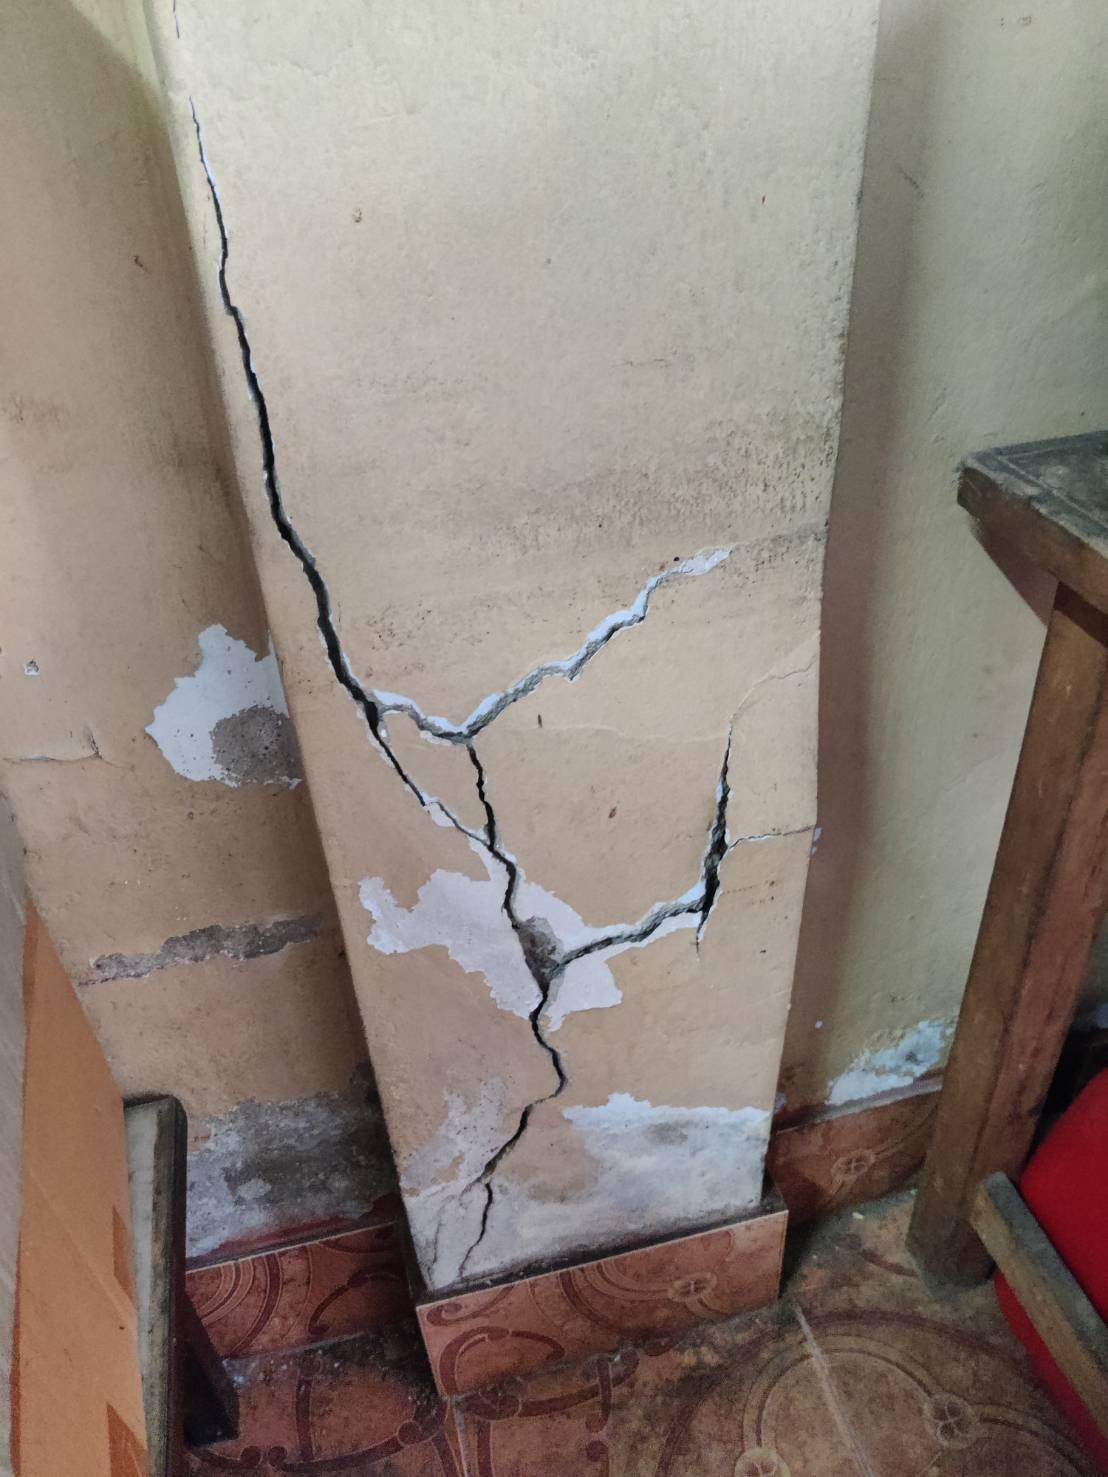High: (147, 2, 824, 1365)
